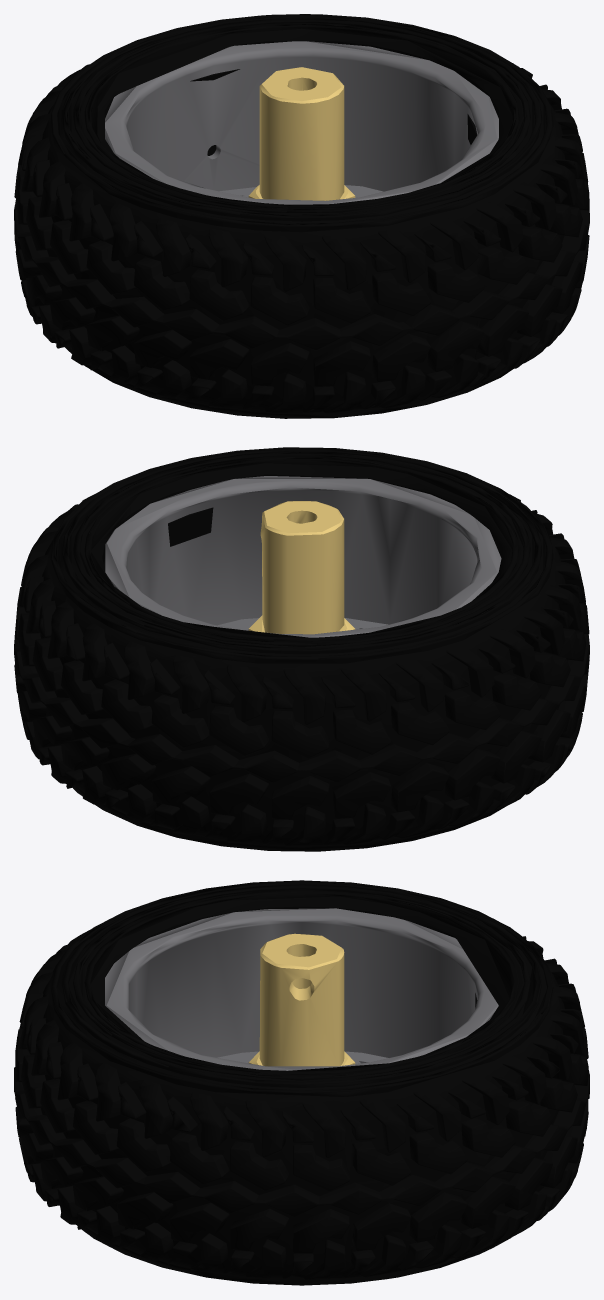
The model's file is wheel_asm_4.dae.
3 renders of one model, top to bottom at view 1: azimuth 30°, elevation 25°; view 2: azimuth 150°, elevation 25°; view 3: azimuth 270°, elevation 25°, orthographic.
Visible parts, largest first — view 1: 0000056813_ASM; view 2: 0000056813_ASM; view 3: 0000056813_ASM.
Boxes of the visible parts, x1=… form: 0000056813_ASM: x1=14, y1=14, x2=589, y2=418; 0000056813_ASM: x1=14, y1=447, x2=589, y2=851; 0000056813_ASM: x1=14, y1=880, x2=589, y2=1285.
Size of the model in its own units: 0.0749 by 0.0749 by 0.0336.
